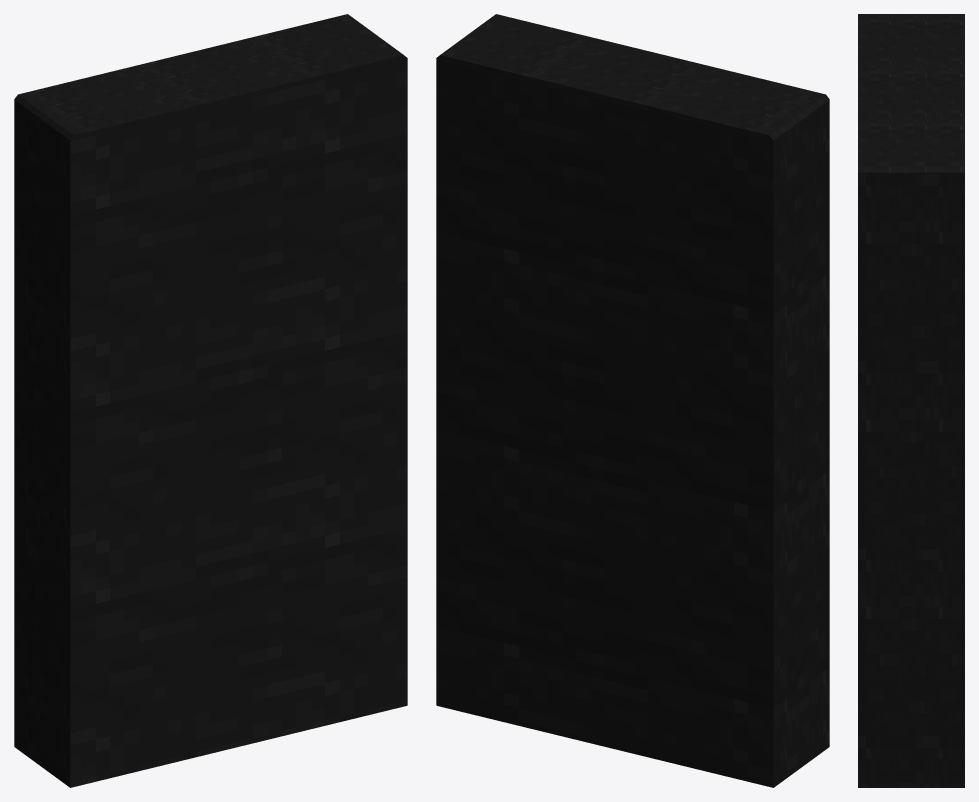
The model's file is Monolith.fbx.
3 renders of one model, left to right at view 1: azimuth 30°, elevation 25°; view 2: azimuth 150°, elevation 25°; view 3: azimuth 270°, elevation 25°, orthographic. The views are drawn at different scales.
Parts seen in each view (by area): view 1: Cube; view 2: Cube; view 3: Cube.
Part boxes in pixels (left/top/right/bottom): Cube: left=14, top=14, right=407, bottom=787; Cube: left=436, top=14, right=829, bottom=787; Cube: left=858, top=14, right=964, bottom=787.
Bounding box in the file's own units: 1.17 × 2.15 × 0.3364.
